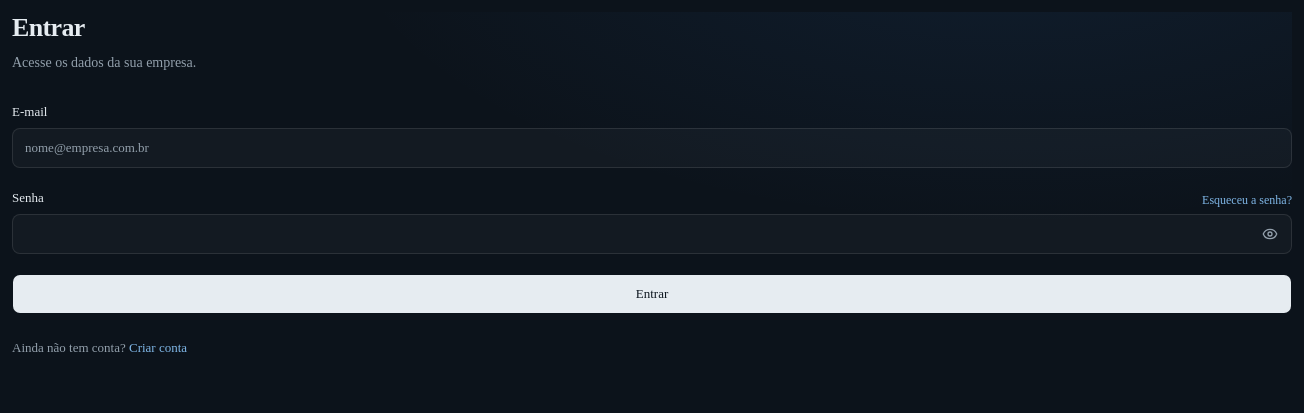
Test: formulário de entrar › a validação no navegador impede o envio e explica cada campo
Click the button "Entrar".
click(652, 294)  # box [12, 274, 1292, 314]
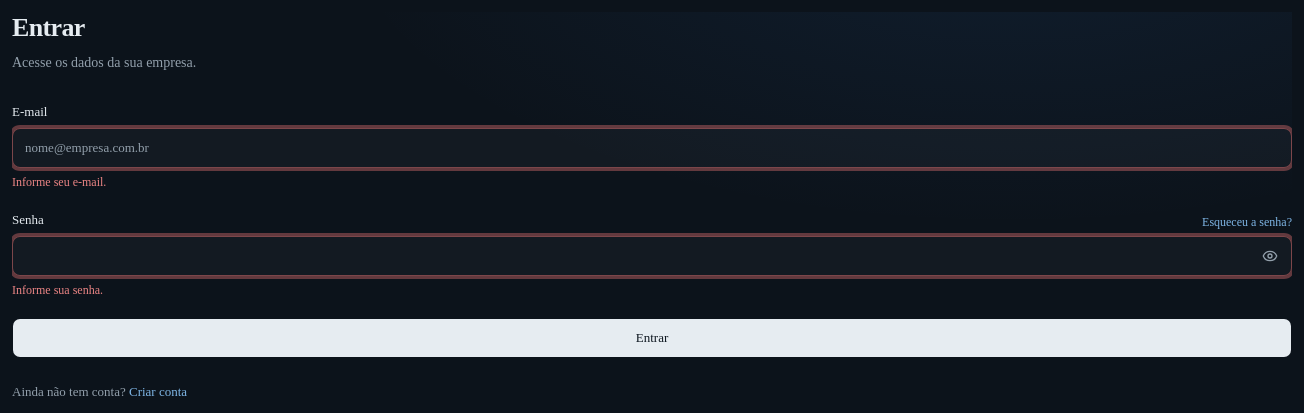
Now the text "Informe seu e-mail." is shown, box [12, 175, 106, 189]
Now the text "Informe sua senha." is shown, box [12, 283, 103, 297]
